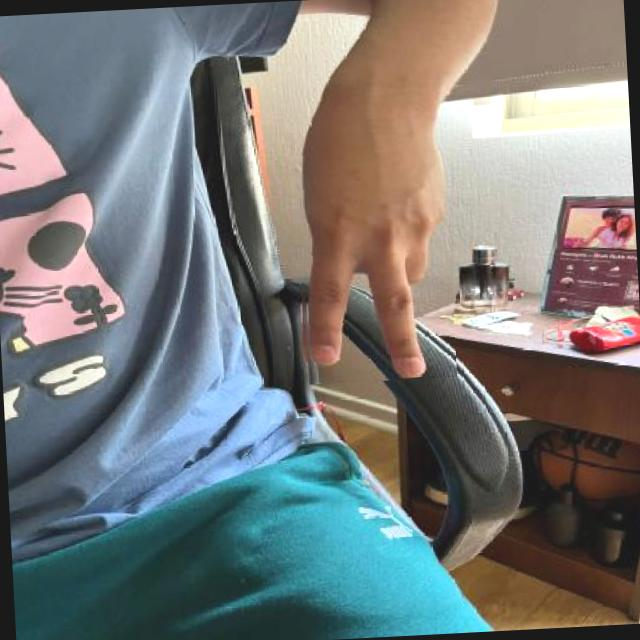N: (287, 97, 457, 385)
